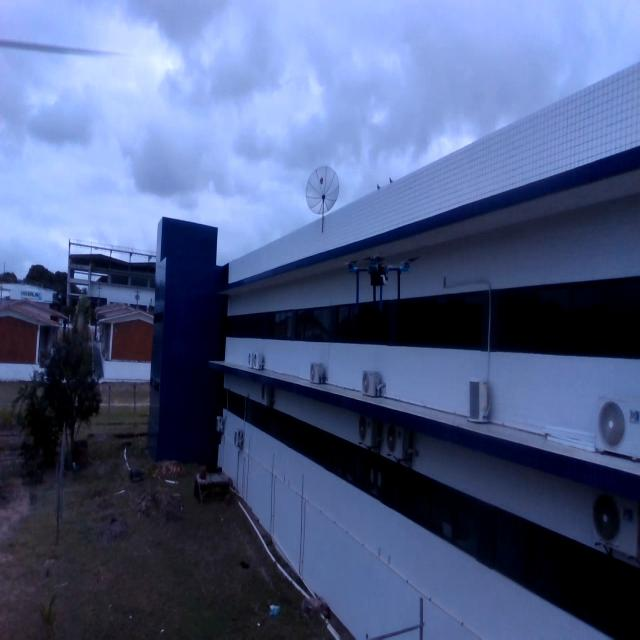-uav-: (342, 246, 422, 320)
